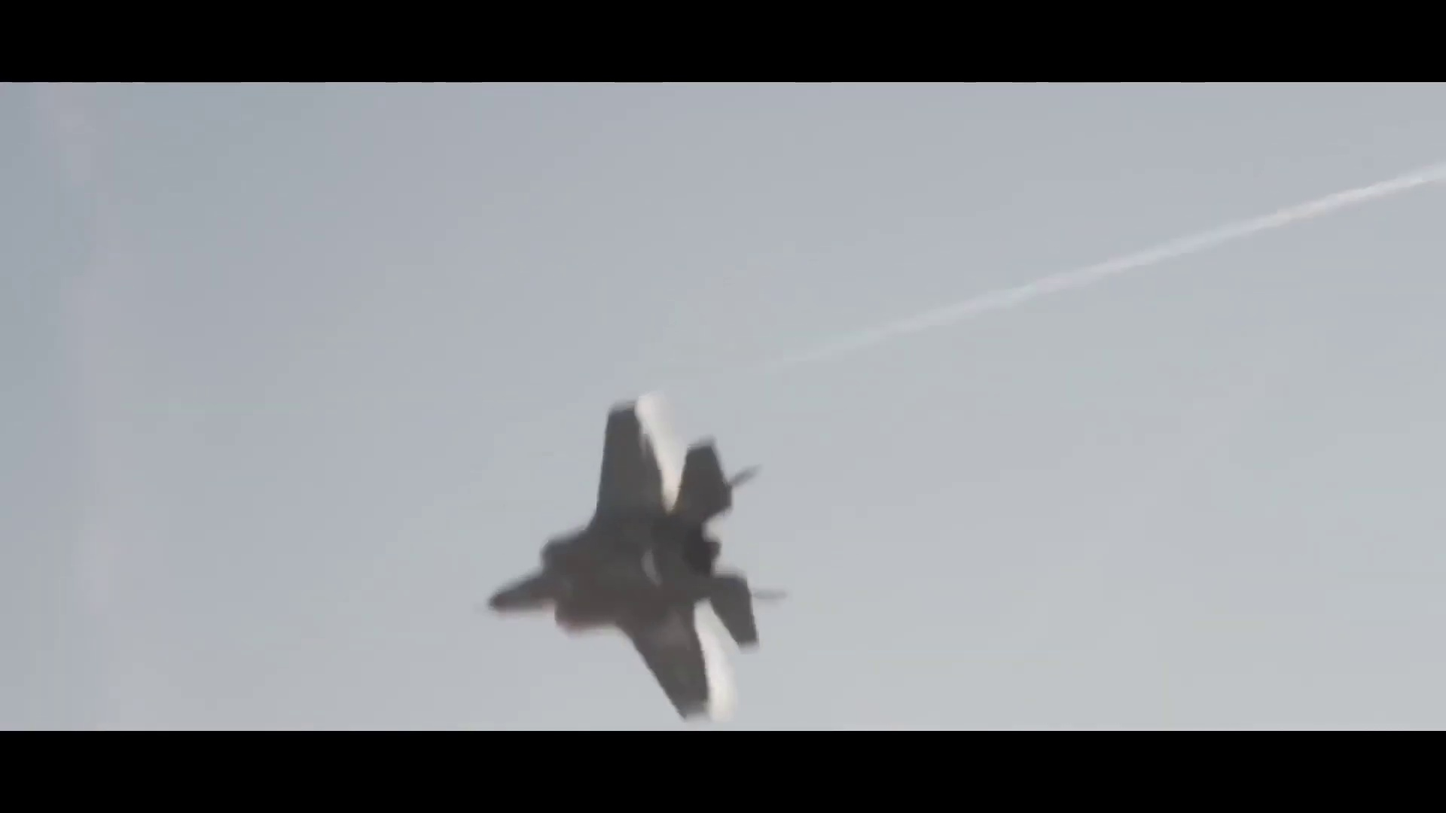F35: (479, 389, 786, 725)
